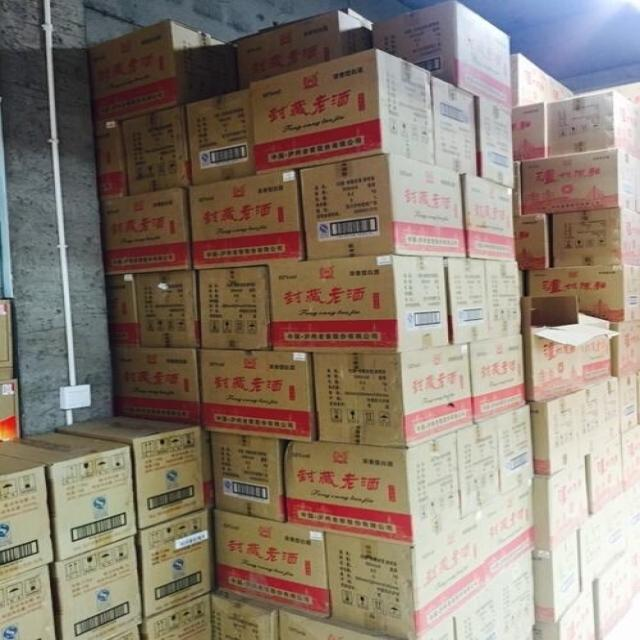box: (251, 47, 435, 174), (325, 512, 493, 638), (284, 432, 463, 546), (298, 153, 467, 260), (0, 431, 138, 561), (269, 255, 448, 354), (55, 414, 206, 529), (312, 343, 474, 448), (87, 18, 239, 128), (374, 0, 512, 111), (212, 509, 332, 620), (189, 170, 302, 270), (236, 7, 374, 87), (198, 349, 315, 442), (54, 536, 142, 640), (530, 379, 621, 475), (137, 509, 214, 619), (100, 186, 189, 275), (521, 322, 617, 401), (523, 150, 639, 215), (211, 431, 287, 523), (113, 348, 202, 426), (186, 87, 256, 184), (0, 455, 52, 581), (123, 105, 193, 195), (200, 265, 271, 351), (551, 91, 639, 159), (479, 480, 536, 578), (468, 335, 526, 425), (430, 75, 480, 178), (551, 208, 638, 267), (136, 270, 201, 348), (534, 457, 588, 550), (577, 494, 628, 592), (460, 173, 516, 260), (553, 266, 637, 323), (456, 415, 502, 518), (488, 551, 536, 640), (536, 531, 580, 624), (0, 566, 55, 640), (278, 607, 397, 640), (444, 258, 489, 345), (597, 547, 638, 639), (497, 404, 535, 497), (141, 592, 214, 640), (475, 98, 513, 186), (211, 591, 279, 640), (537, 585, 595, 639), (453, 582, 503, 639), (486, 259, 521, 339), (104, 274, 140, 350), (588, 437, 622, 515), (95, 118, 127, 200), (511, 52, 552, 110), (512, 102, 552, 161), (513, 212, 549, 271), (612, 323, 638, 377), (417, 616, 454, 640), (527, 268, 552, 297), (104, 625, 140, 640)
